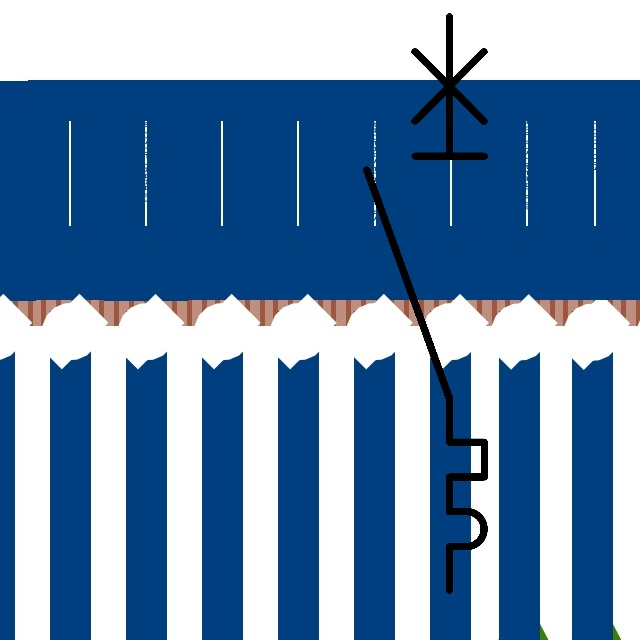interruptor_termomagnetico: (352, 2, 499, 605)
